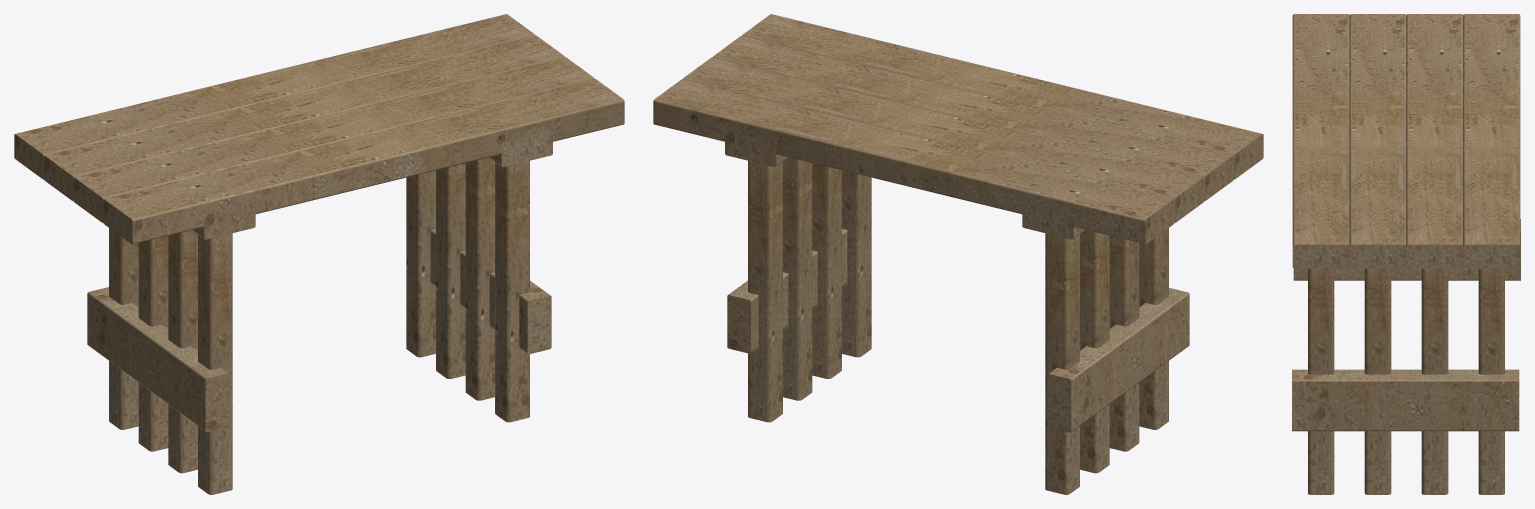
The picture shows the model from 3 angles, left to right: view 1: azimuth 30°, elevation 25°; view 2: azimuth 150°, elevation 25°; view 3: azimuth 270°, elevation 25°; orthographic projection. The views are drawn at different scales.
Visible parts, largest first — view 1: mesh3_mesh3-geometry, mesh1_mesh1-geometry, mesh2_mesh2-geometry; view 2: mesh3_mesh3-geometry, mesh1_mesh1-geometry, mesh2_mesh2-geometry; view 3: mesh3_mesh3-geometry, mesh1_mesh1-geometry, mesh2_mesh2-geometry.
Part boxes in pixels (x1,y1,x2,y2): mesh3_mesh3-geometry: (14, 14, 624, 244); mesh1_mesh1-geometry: (109, 157, 529, 494); mesh2_mesh2-geometry: (87, 130, 552, 431); mesh3_mesh3-geometry: (653, 14, 1263, 244); mesh1_mesh1-geometry: (748, 157, 1168, 494); mesh2_mesh2-geometry: (725, 130, 1189, 432); mesh3_mesh3-geometry: (1292, 14, 1520, 268); mesh1_mesh1-geometry: (1308, 268, 1504, 494); mesh2_mesh2-geometry: (1292, 219, 1520, 431).
Size of the model in its own units: 0.811 by 0.4759 by 0.3402.
